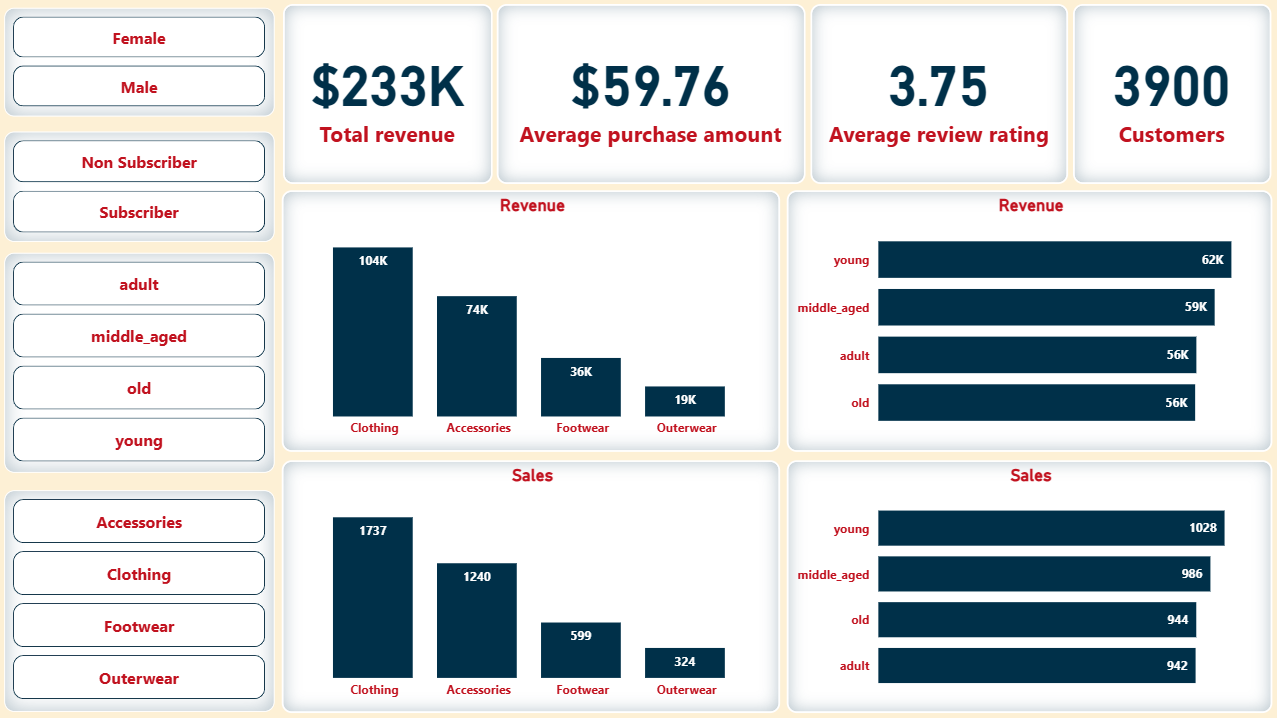

This screenshot's page, from the dashboard's own definition file:
{"tool":"powerbi","page":{"name":"Page 1","canvas":[1280,720],"ordinal":0},"visuals":[{"type":"clusteredColumnChart","title":"Revenue","fields":{"Category":["customer.category"],"Y":["Sum(customer.purchase_amount)"]},"box":[284.3,191.4,498.6,261.4],"z":0},{"type":"card","fields":{"Values":["Sum(customer.purchase_amount)"]},"box":[284.8,5,209.4,180],"z":1000},{"type":"advancedSlicerVisual","fields":{"Values":["customer.gender"]},"box":[5.7,8.6,270,108.6],"z":2000},{"type":"card","fields":{"Values":["Avg(customer.purchase_amount)"]},"box":[499.3,5,308.4,180],"z":3000},{"type":"advancedSlicerVisual","fields":{"Values":["customer.Subscription"]},"box":[5.7,132.9,270,110],"z":4000},{"type":"advancedSlicerVisual","fields":{"Values":["customer.age_group"]},"box":[5.7,254.3,270,220],"z":5000},{"type":"card","fields":{"Values":["Avg(customer.review_rating)"]},"box":[812.8,5,257.7,180],"z":6000},{"type":"advancedSlicerVisual","fields":{"Values":["customer.category"]},"box":[5.7,491.4,270,221.4],"z":7000},{"type":"card","fields":{"Values":["customer.Number of customers"]},"box":[1075.5,5,198,180],"z":8000},{"type":"clusteredColumnChart","title":"Sales","fields":{"Category":["customer.category"],"Y":["CountNonNull(customer.customer_id)"]},"box":[284.3,461.4,498.6,252.9],"z":9000},{"type":"clusteredBarChart","title":"Revenue","fields":{"Category":["customer.age_group"],"Y":["Sum(customer.purchase_amount)"]},"box":[788.6,191.4,485.7,261.4],"z":10000},{"type":"clusteredBarChart","title":"Sales","fields":{"Category":["customer.age_group"],"Y":["CountNonNull(customer.customer_id)"]},"box":[788.6,461.4,485.7,252.9],"z":11000}]}

Visuals, with their boxes in screenshot pixels (x1, y1, x2, y2), scaled from the page's 1280x720 canvas onto the 1277x718 screenshot:
"Revenue" clusteredColumnChart: BBox(284, 191, 781, 452)
card - Sum(customer.purchase_amount): BBox(284, 5, 493, 184)
advancedSlicerVisual - customer.gender: BBox(6, 9, 275, 117)
card - Avg(customer.purchase_amount): BBox(498, 5, 806, 184)
advancedSlicerVisual - customer.Subscription: BBox(6, 133, 275, 242)
advancedSlicerVisual - customer.age_group: BBox(6, 254, 275, 473)
card - Avg(customer.review_rating): BBox(811, 5, 1068, 184)
advancedSlicerVisual - customer.category: BBox(6, 490, 275, 711)
card - customer.Number of customers: BBox(1073, 5, 1271, 184)
"Sales" clusteredColumnChart: BBox(284, 460, 781, 712)
"Revenue" clusteredBarChart: BBox(787, 191, 1271, 452)
"Sales" clusteredBarChart: BBox(787, 460, 1271, 712)
